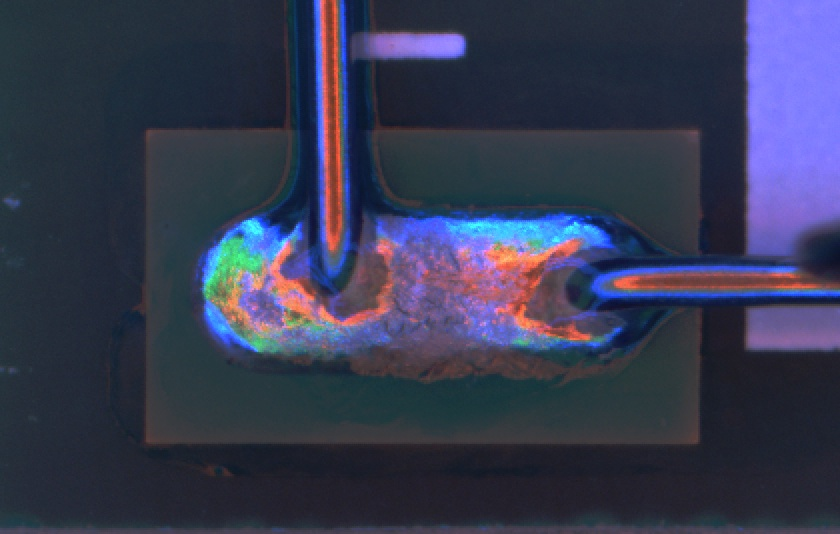spring: (552, 241, 840, 317), (304, 1, 359, 298)
spring_pin: (199, 211, 670, 364)
